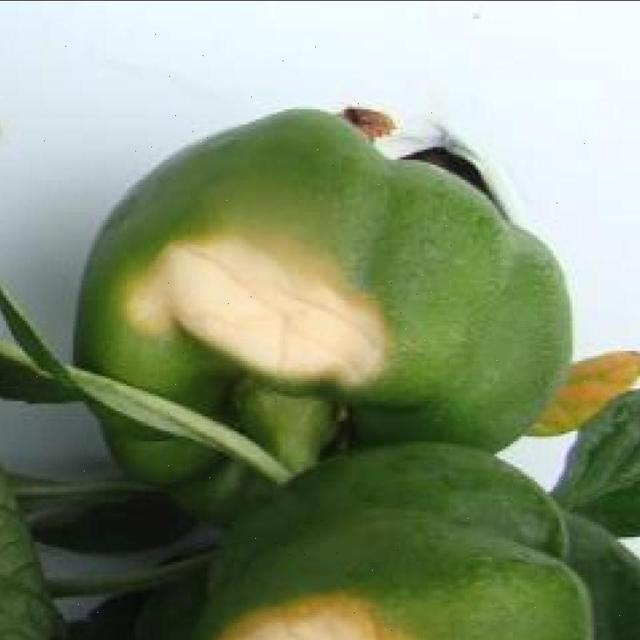Sunscald Fruit: (129, 25, 206, 414)
